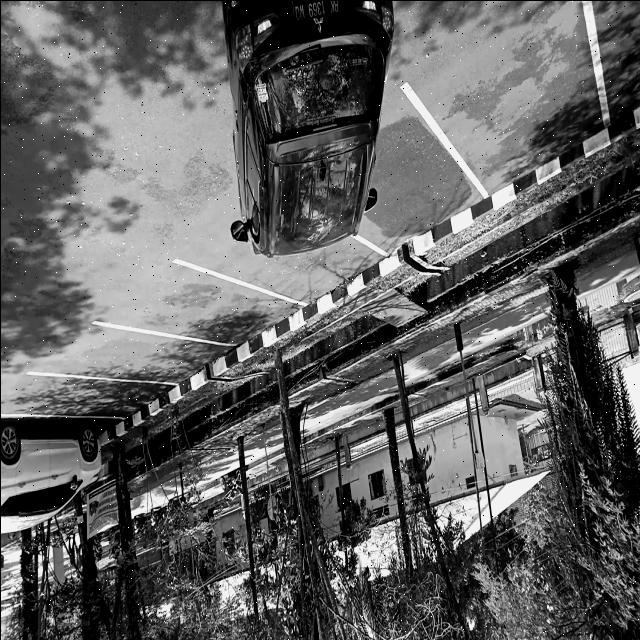occupied: (285, 90, 492, 294), (177, 161, 392, 357)
vacant: (405, 0, 640, 207), (94, 241, 313, 388), (29, 313, 246, 405), (1, 372, 187, 425)
